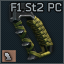AR-15 F1 Firearms Skeletonized Style 2 PC pistol grip: (0, 0, 64, 64)
